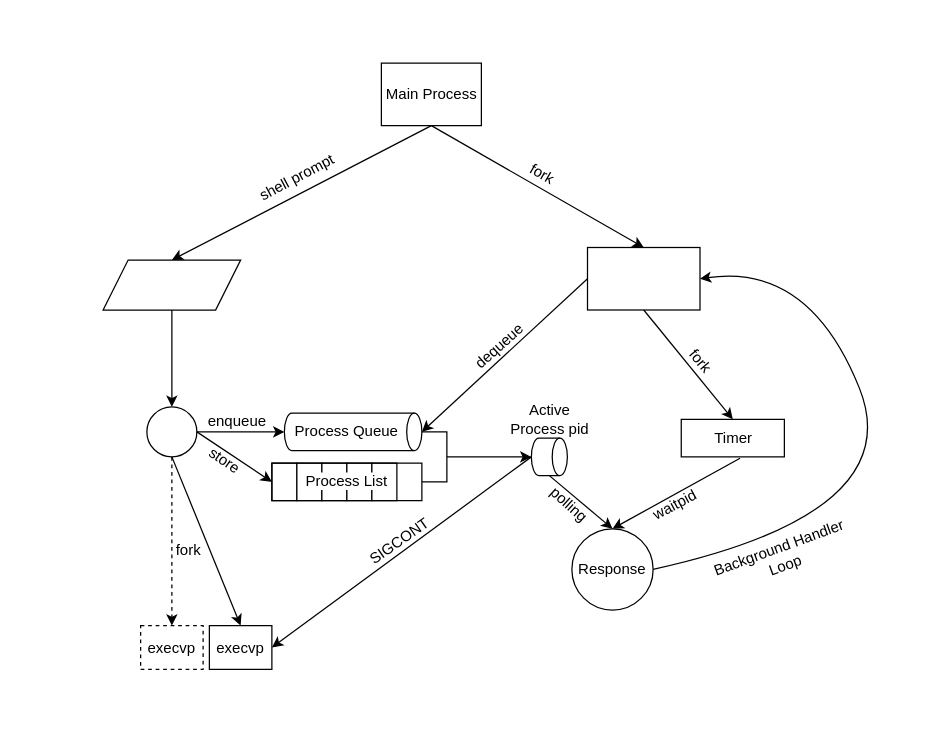
The diagram is 948 pixels wide and 749 high, and some of its shapes have lost their labels. The centre of each missing label's shape, as x and y in pixels:
"Background Handler Process" belongs at pixel 643 278.
"Run" belongs at pixel 171 431.
"User Input" belongs at pixel 171 284.
